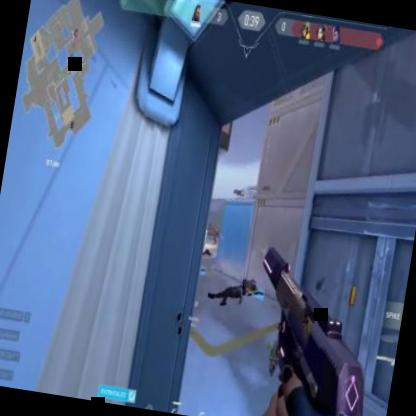enemy: (212, 222, 219, 244)
enemy_head: (216, 224, 219, 229)
